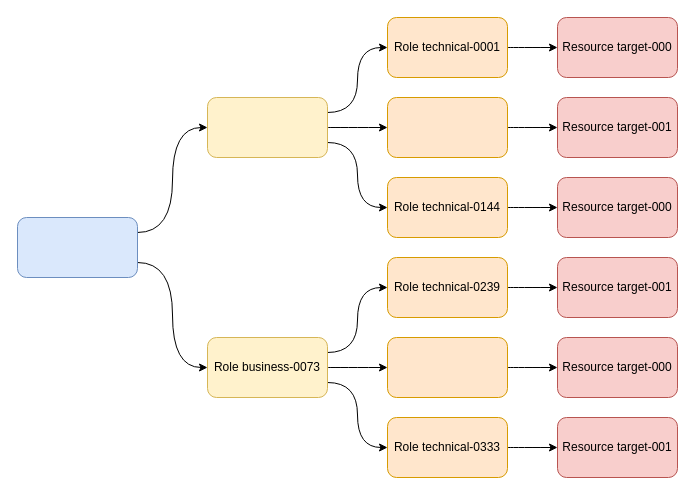
Image size: 695x495. Some labels were removed from this diagram. The shapes that lost their labels are listed below. From the top down, each one's centre as x and y in pixels, then its label:
pixel 267 127: Role business-0014
pixel 447 127: Role technical-0022
pixel 77 247: User u-00000002
pixel 447 367: Role technical-0078
